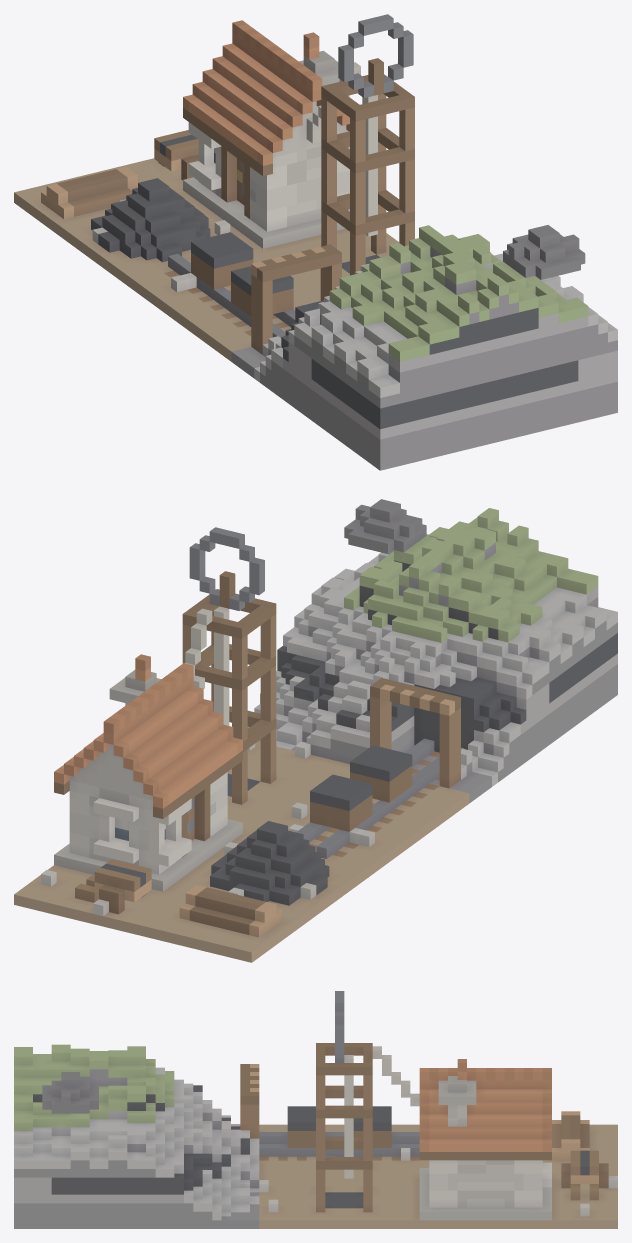
File: coal_mine.glb
The picture shows the model from 3 angles, top to bottom: view 1: azimuth 30°, elevation 25°; view 2: azimuth 150°, elevation 25°; view 3: azimuth 270°, elevation 25°; orthographic projection. The views are drawn at different scales.
Parts seen in each view (by area): view 1: coal_mine; view 2: coal_mine; view 3: coal_mine.
Boxes of the visible parts, box(x1,y1,x2,y2) form: coal_mine: box(14, 14, 617, 470); coal_mine: box(14, 499, 617, 962); coal_mine: box(14, 991, 617, 1228).
Size of the model in its own units: 3 by 3.12 by 8.
